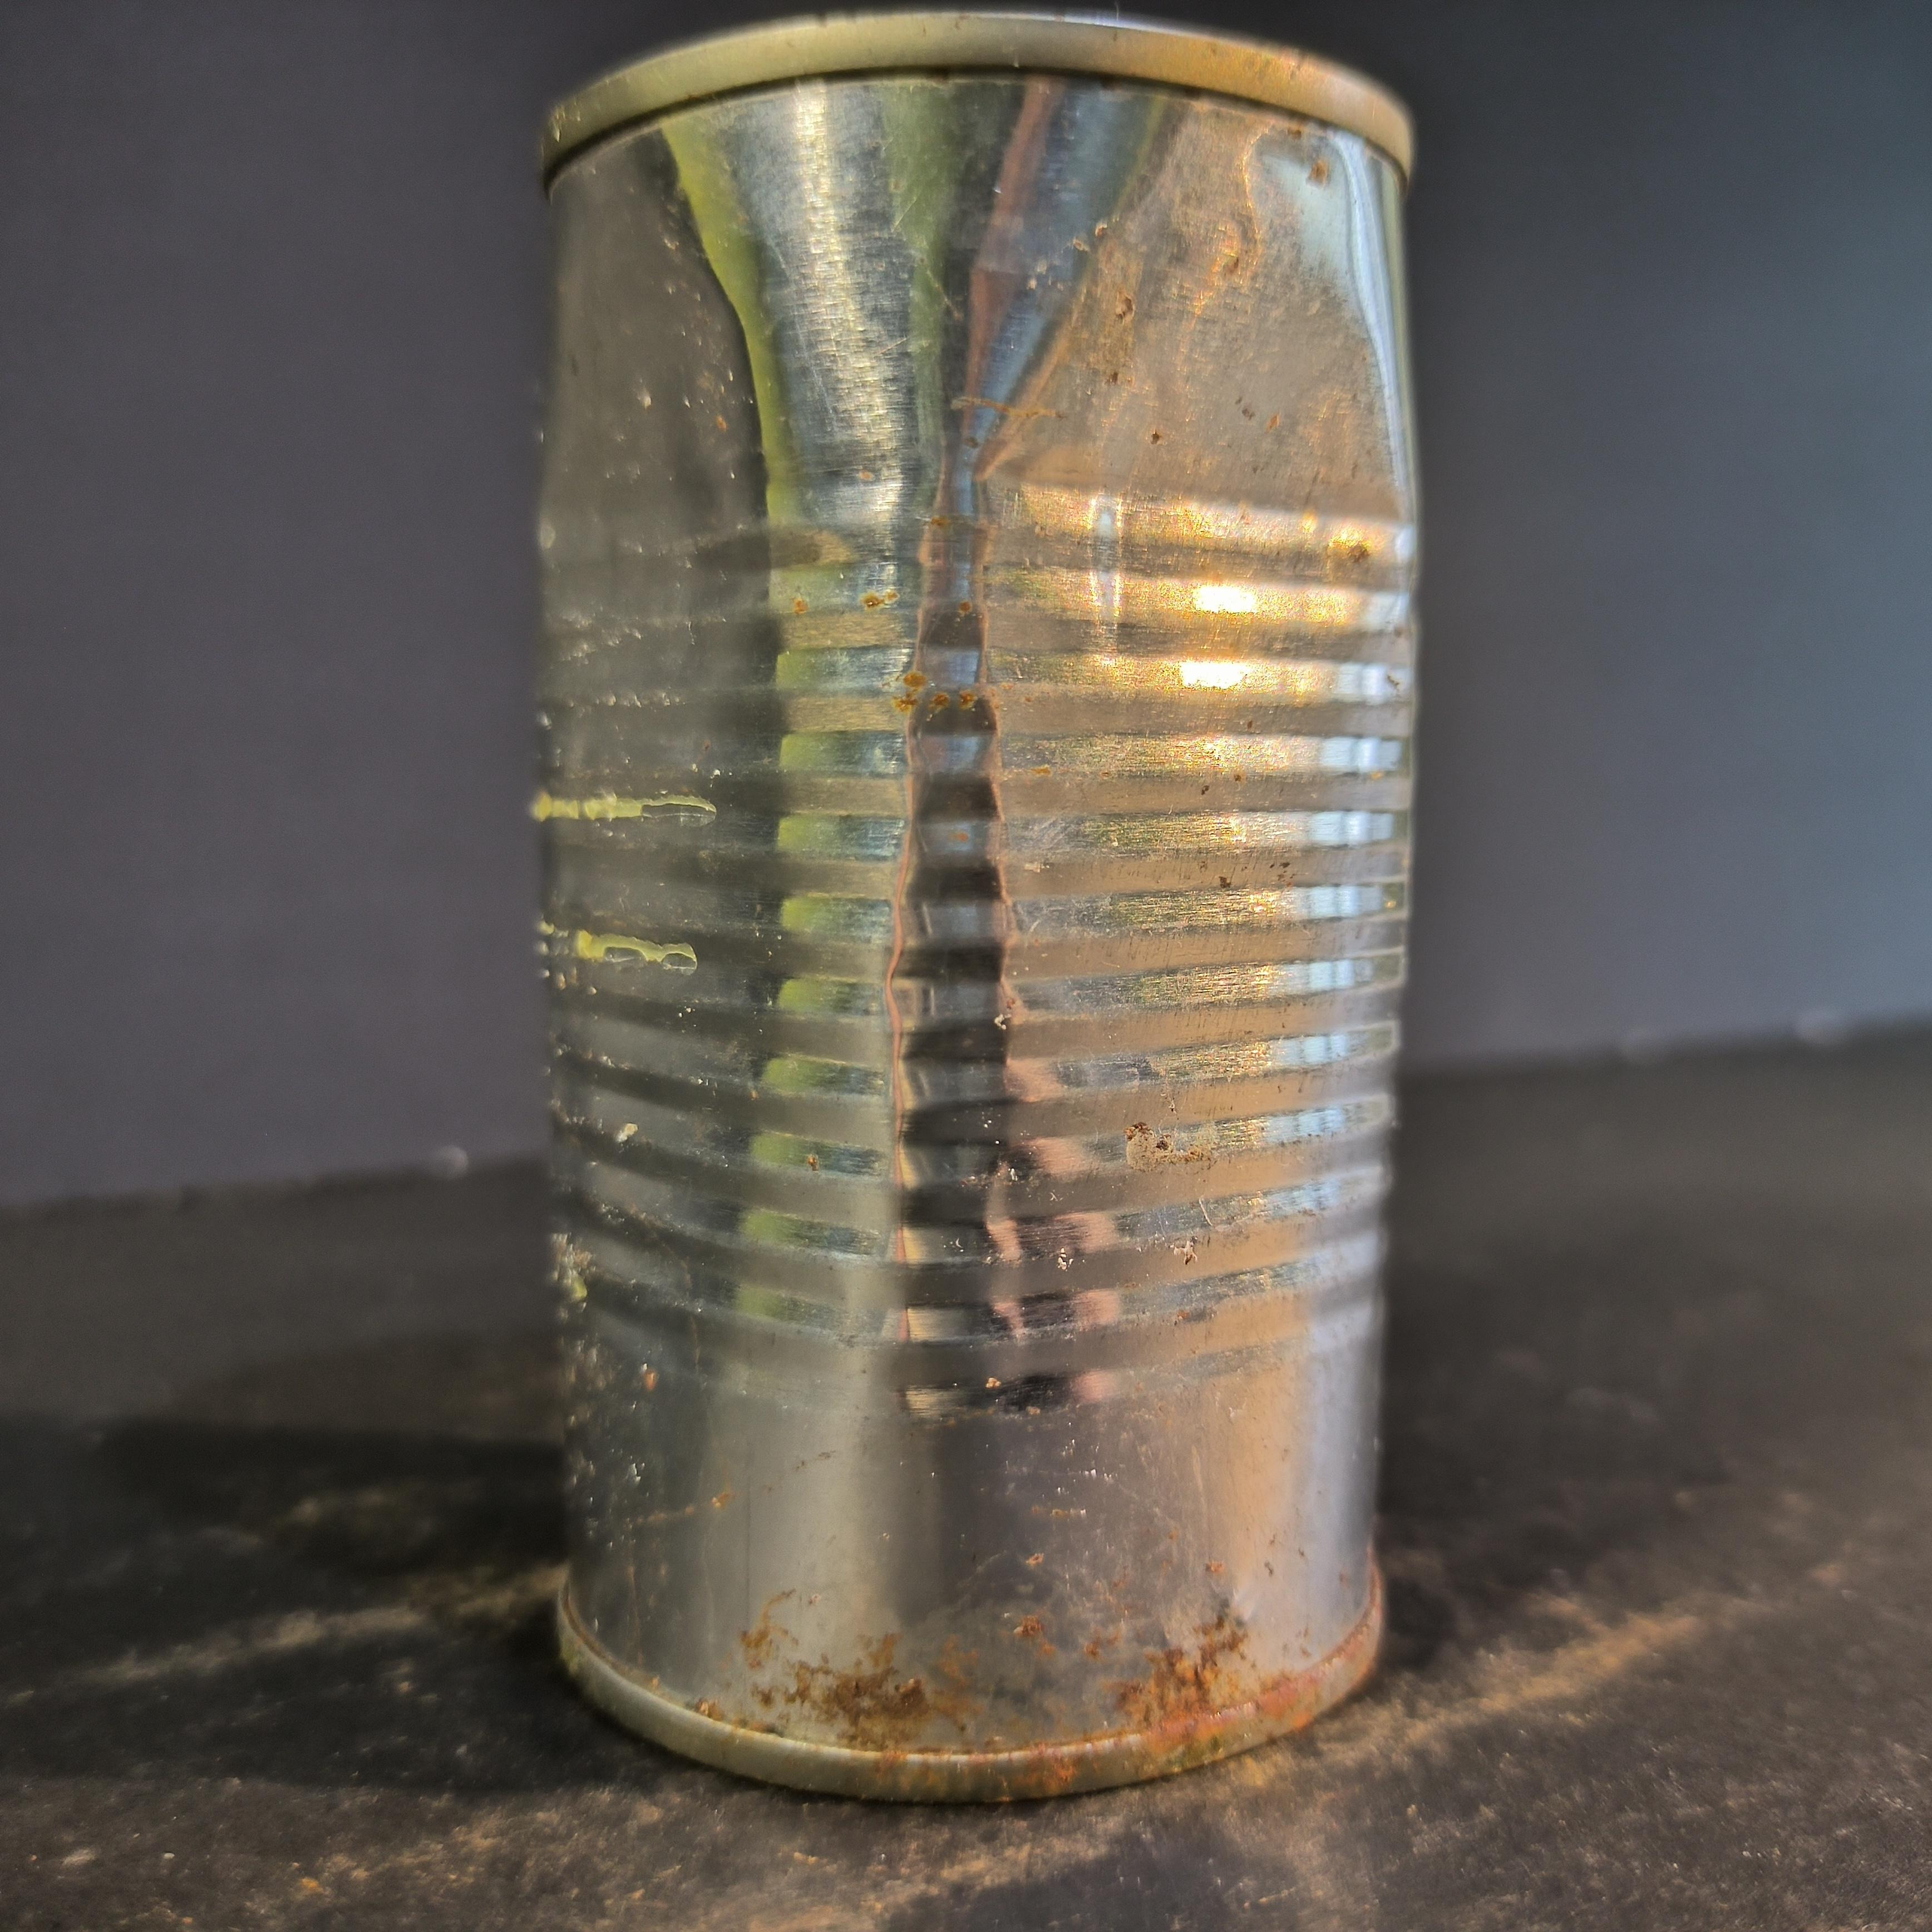Minor Defect: (533, 6, 1422, 1800)
